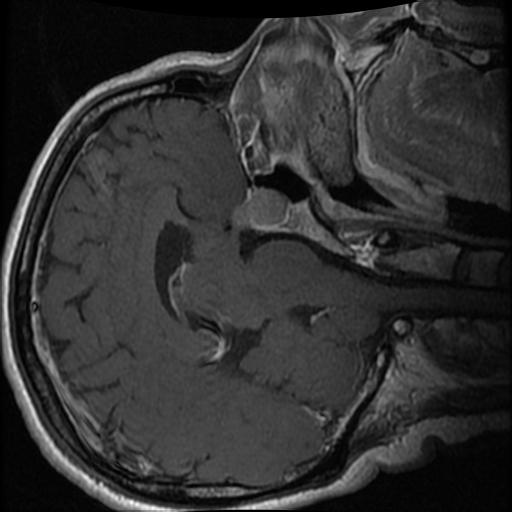pituitary tumour: (232, 187, 288, 231)
